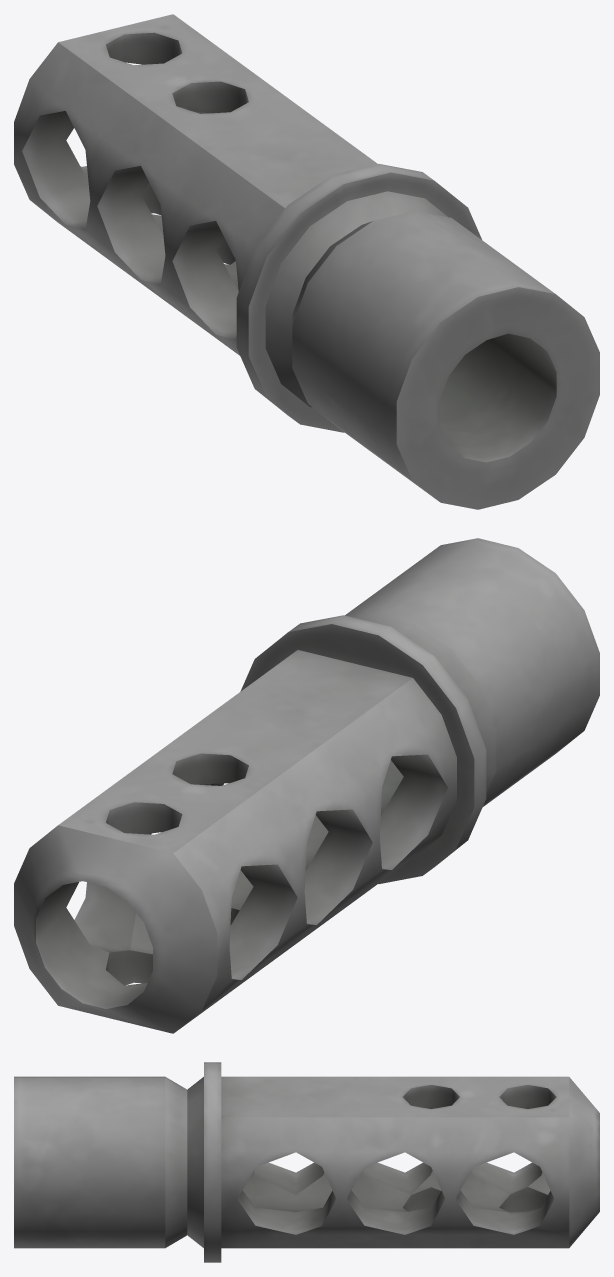
Rendered from IG_Acc_Muzzle_SMG_REC_4.fbx.
3 renders of one model, top to bottom at view 1: azimuth 30°, elevation 25°; view 2: azimuth 150°, elevation 25°; view 3: azimuth 270°, elevation 25°, orthographic. The views are drawn at different scales.
Visible parts, largest first — view 1: Muzzle_SMG_REC_4; view 2: Muzzle_SMG_REC_4; view 3: Muzzle_SMG_REC_4.
Part boxes in pixels (left/top/right/bottom): Muzzle_SMG_REC_4: left=14, top=14, right=599, bottom=509; Muzzle_SMG_REC_4: left=14, top=538, right=599, bottom=1033; Muzzle_SMG_REC_4: left=14, top=1062, right=599, bottom=1262.
Size of the model in its own units: 0.0839 by 0.0839 by 0.247.
